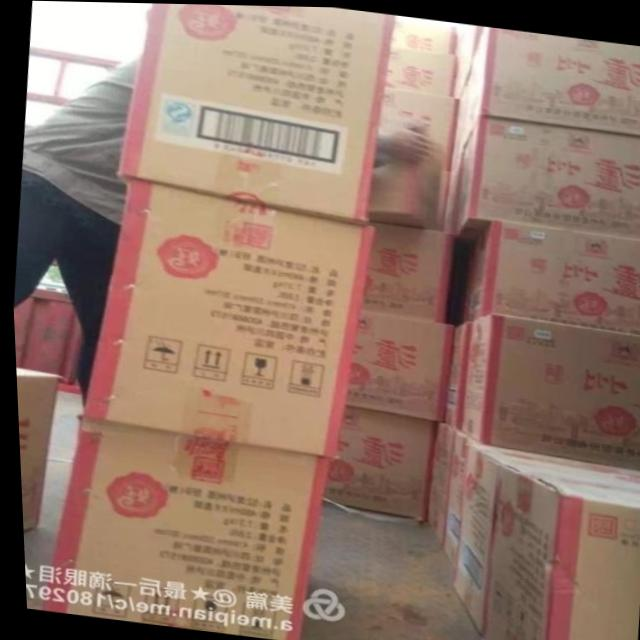box: (81, 178, 373, 455), (38, 417, 327, 639), (118, 3, 394, 220), (447, 440, 640, 629), (445, 25, 640, 175), (477, 461, 640, 640), (456, 310, 640, 467), (438, 114, 640, 236), (463, 218, 640, 332), (368, 84, 460, 228), (318, 404, 434, 517), (341, 308, 451, 419), (358, 220, 467, 322), (13, 366, 56, 533), (438, 427, 469, 568), (384, 46, 459, 93), (425, 420, 449, 547), (389, 17, 455, 53)
